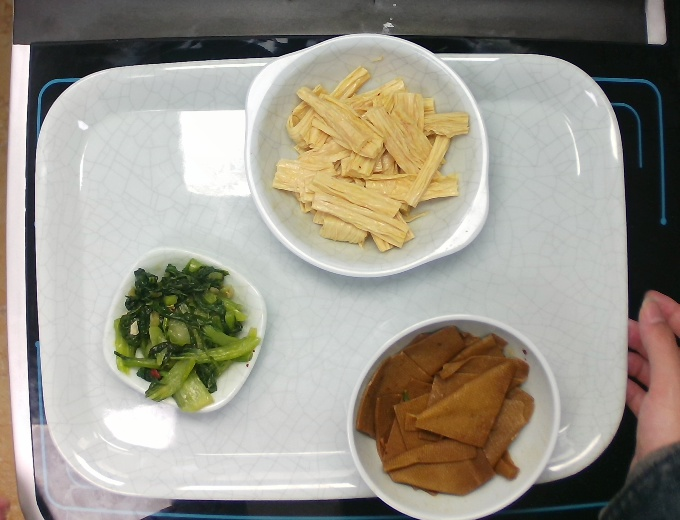JYsf-Fan_Wan: (349, 312, 561, 520)
JYsf-Shuang_Er_Wan: (243, 28, 495, 281)
JYsf-Si_Fang_Die: (104, 247, 269, 415)
